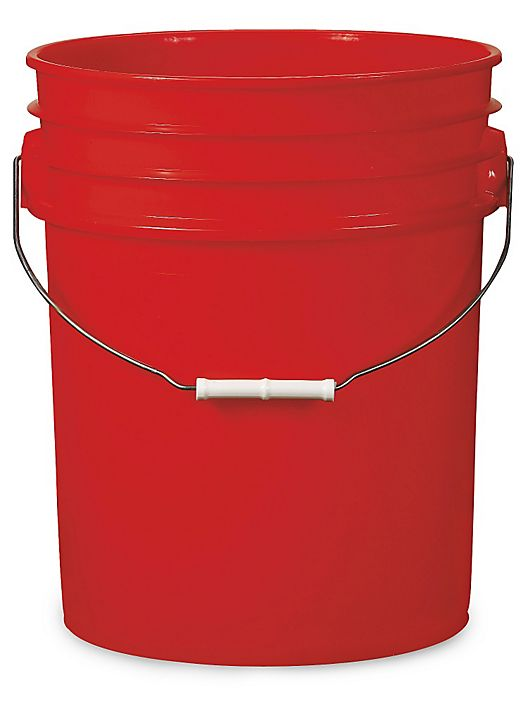Rec_Plastic: (10, 1, 501, 657)
